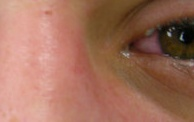SJS-TEN: (115, 23, 178, 62)
